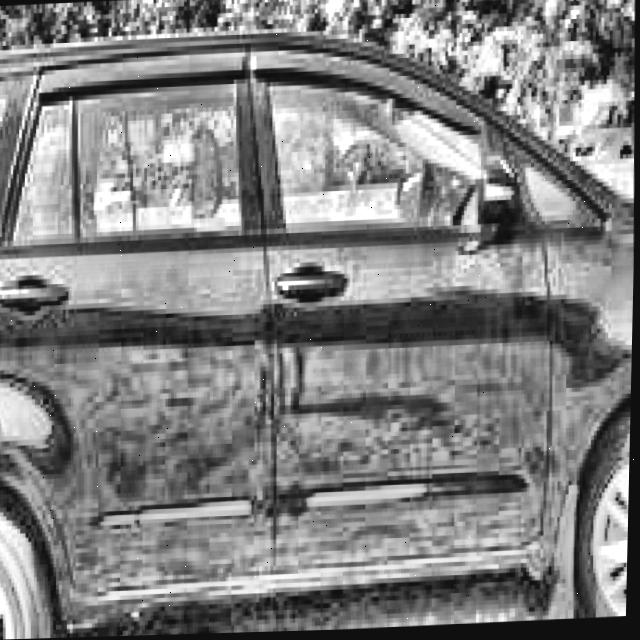light_vehicle: (0, 10, 640, 640)
